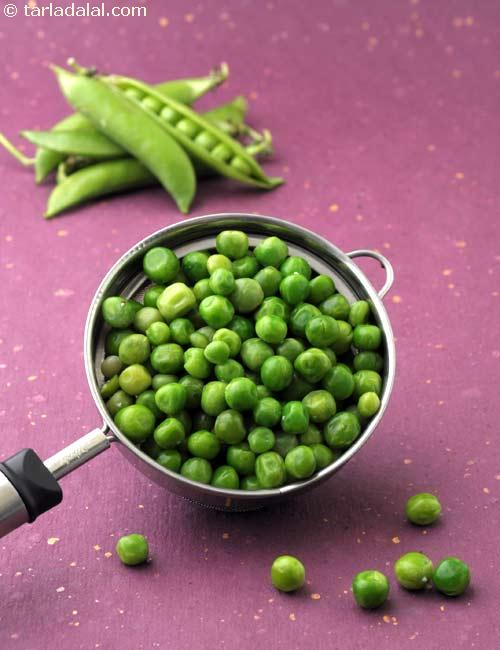boiled peas: (108, 245, 368, 482), (396, 550, 471, 595), (349, 573, 388, 607), (112, 535, 152, 567), (274, 557, 306, 597), (409, 497, 443, 526)
